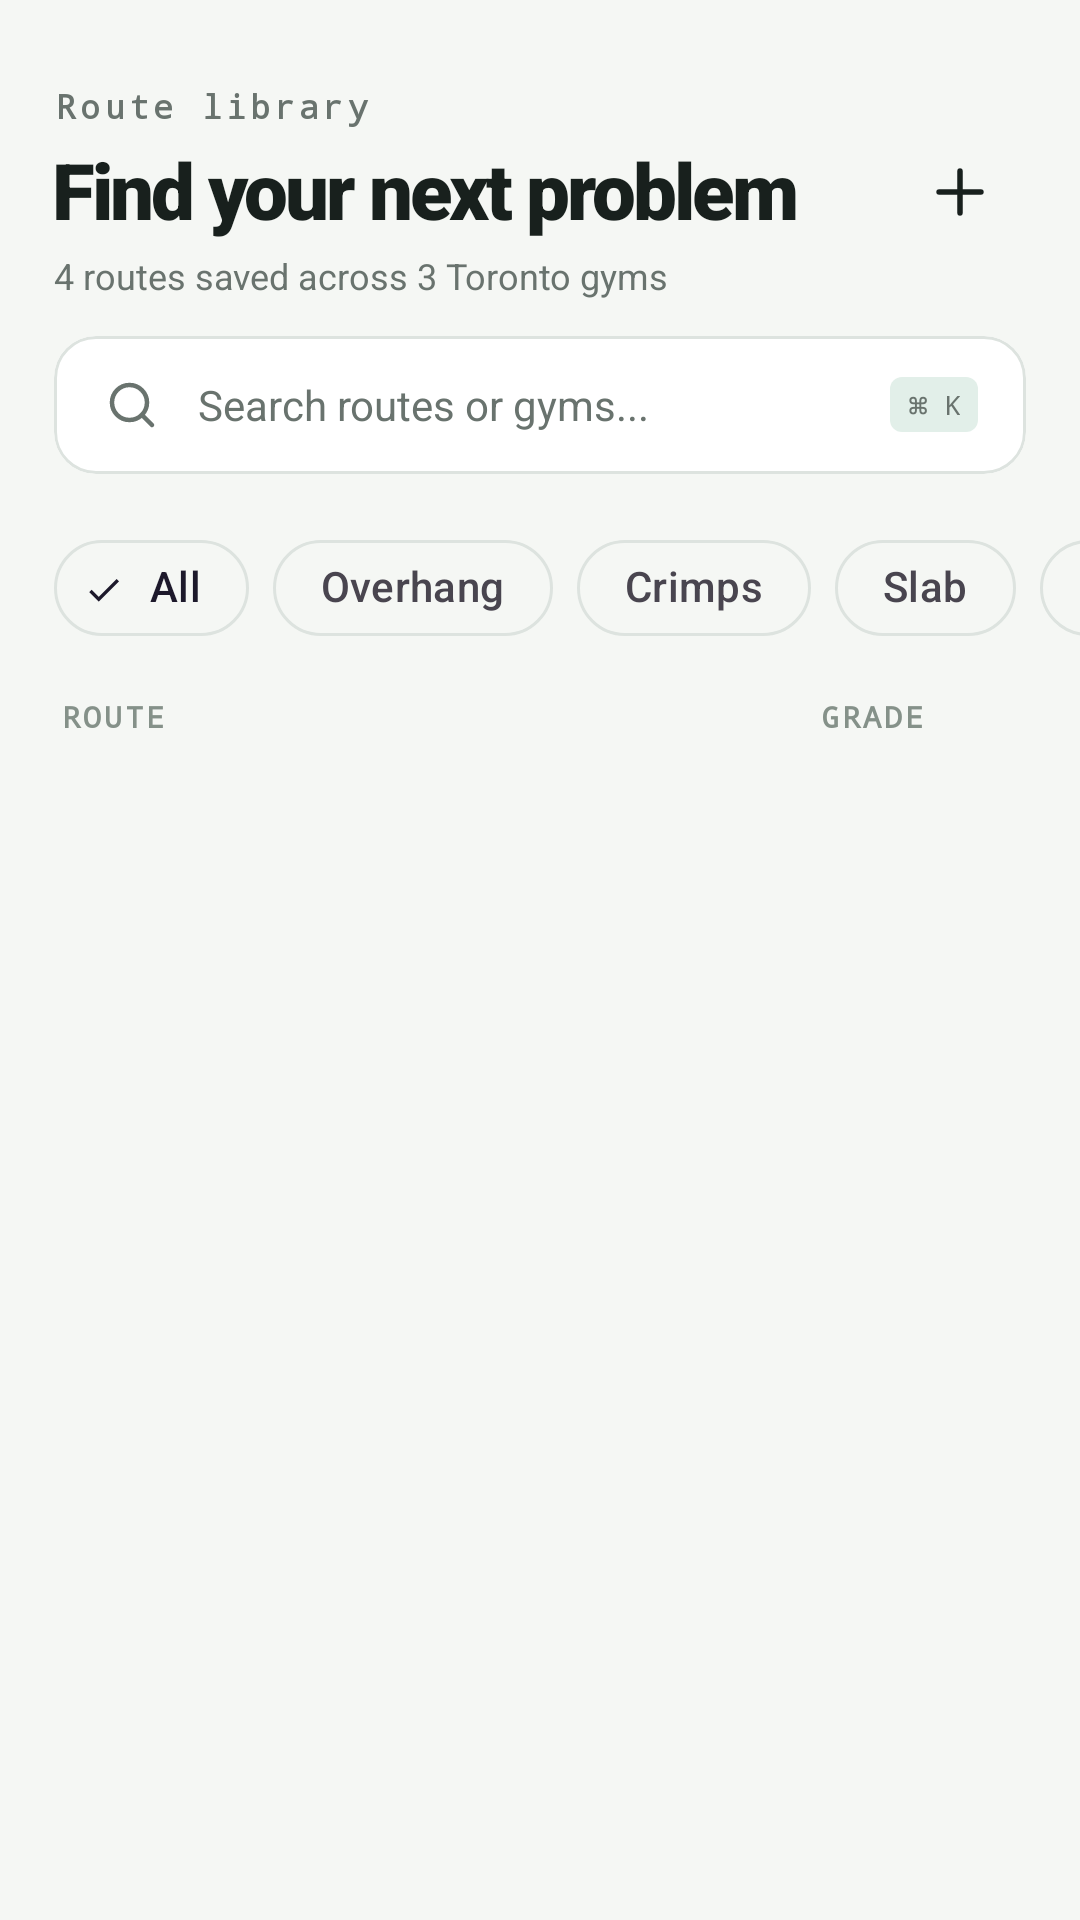

Locate icon controls on the screen. Image size 1080x1920, boxes as (x1, y1, x2, y2).
Add route: (936, 168, 984, 216)
